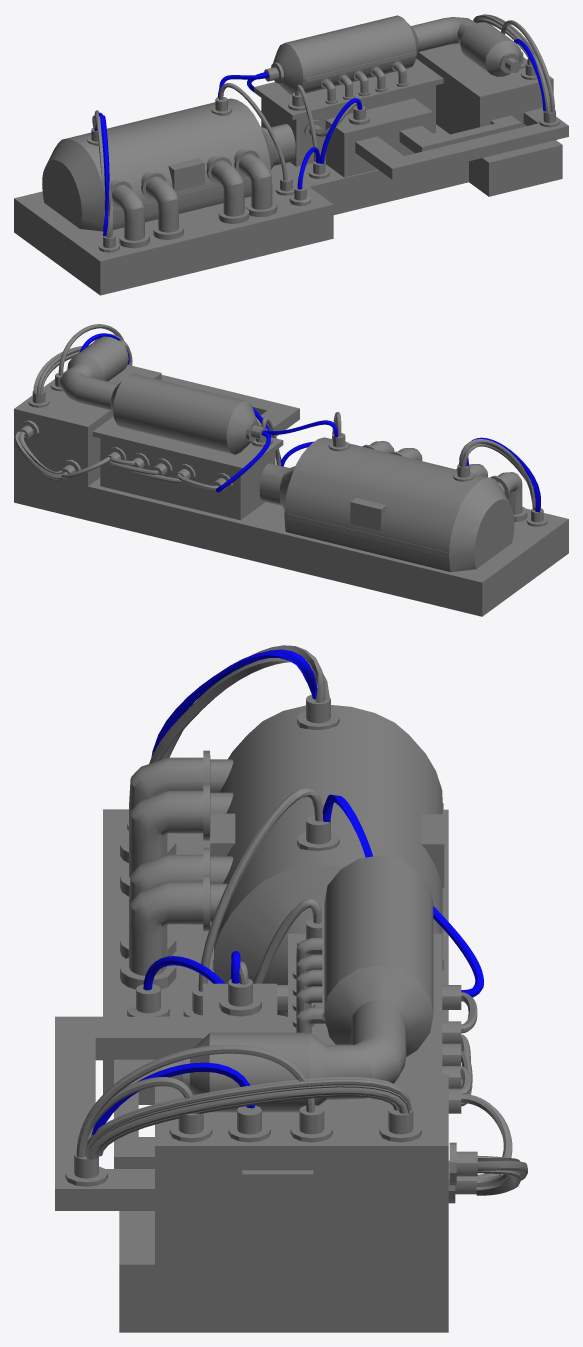
Rendered from SM_Machine1.FBX.
The picture shows the model from 3 angles, top to bottom: view 1: azimuth 30°, elevation 25°; view 2: azimuth 150°, elevation 25°; view 3: azimuth 270°, elevation 25°; orthographic projection. The views are drawn at different scales.
Parts seen in each view (by area): view 1: SM_Machine1_LOD0; view 2: SM_Machine1_LOD0; view 3: SM_Machine1_LOD0.
Boxes of the visible parts, x1=… form: SM_Machine1_LOD0: x1=14, y1=14, x2=568, y2=295; SM_Machine1_LOD0: x1=14, y1=324, x2=568, y2=616; SM_Machine1_LOD0: x1=55, y1=645, x2=527, y2=1332.
Size of what is drawn, in the model's own units: 710 by 198 by 309.
